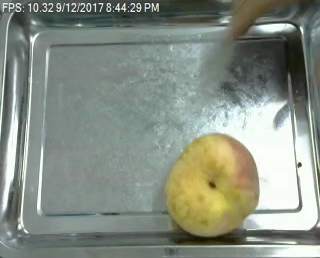Peach: (165, 132, 260, 237)
